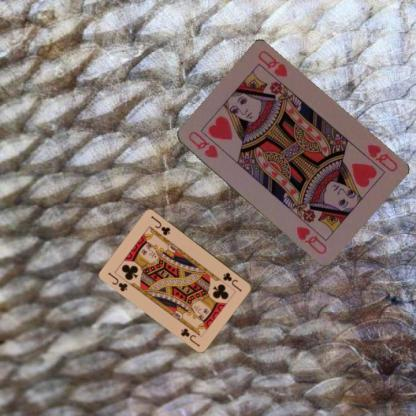Jc: (105, 269, 130, 293), (221, 270, 244, 293)
Qh: (364, 141, 399, 174), (185, 128, 219, 160)
